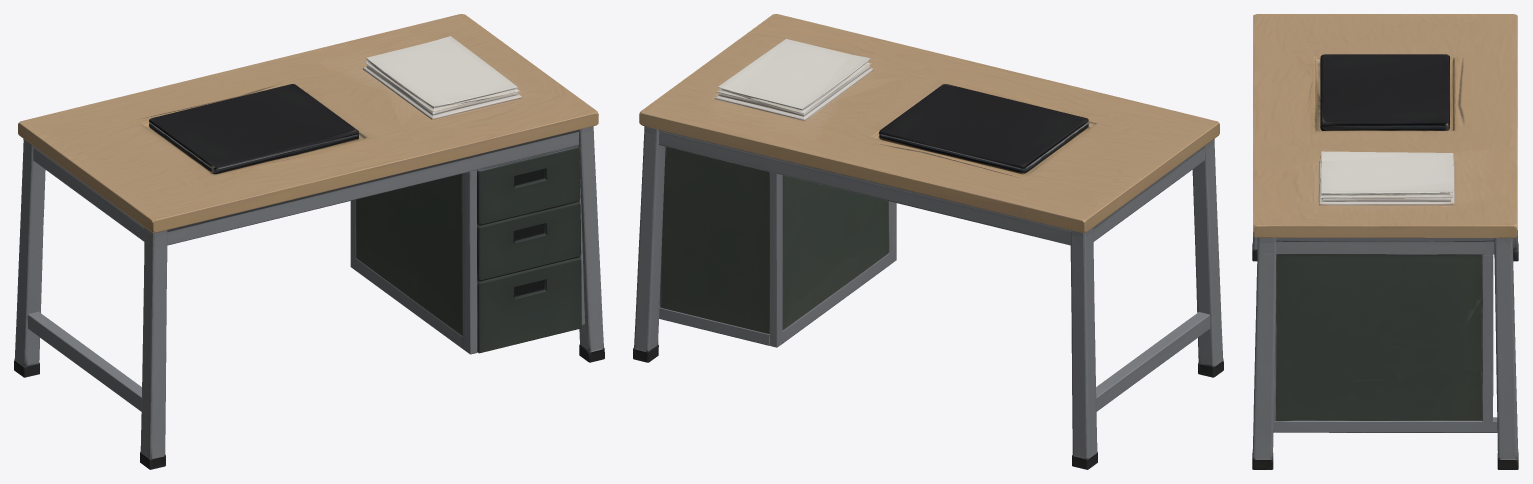
The model's file is office_desk.glb.
3 renders of one model, left to right at view 1: azimuth 30°, elevation 25°; view 2: azimuth 150°, elevation 25°; view 3: azimuth 270°, elevation 25°, orthographic. The views are drawn at different scales.
Parts seen in each view (by area): view 1: office_desk; view 2: office_desk; view 3: office_desk.
Part boxes in pixels (box(x1,y1,x2,y2)): office_desk: box(14, 14, 604, 469); office_desk: box(633, 14, 1223, 469); office_desk: box(1252, 14, 1518, 469).
Size of the model in its own units: 1.4 by 0.7655 by 0.7284.
1 material, 1 textured.
